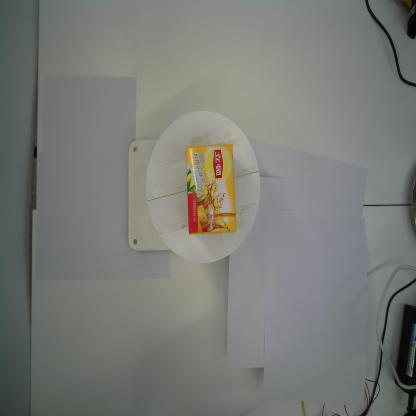Instant Drink: (185, 142, 238, 236)
